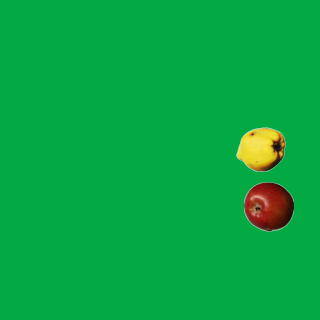Apple Braeburn: (243, 181, 293, 231)
Quince: (235, 124, 285, 174)
